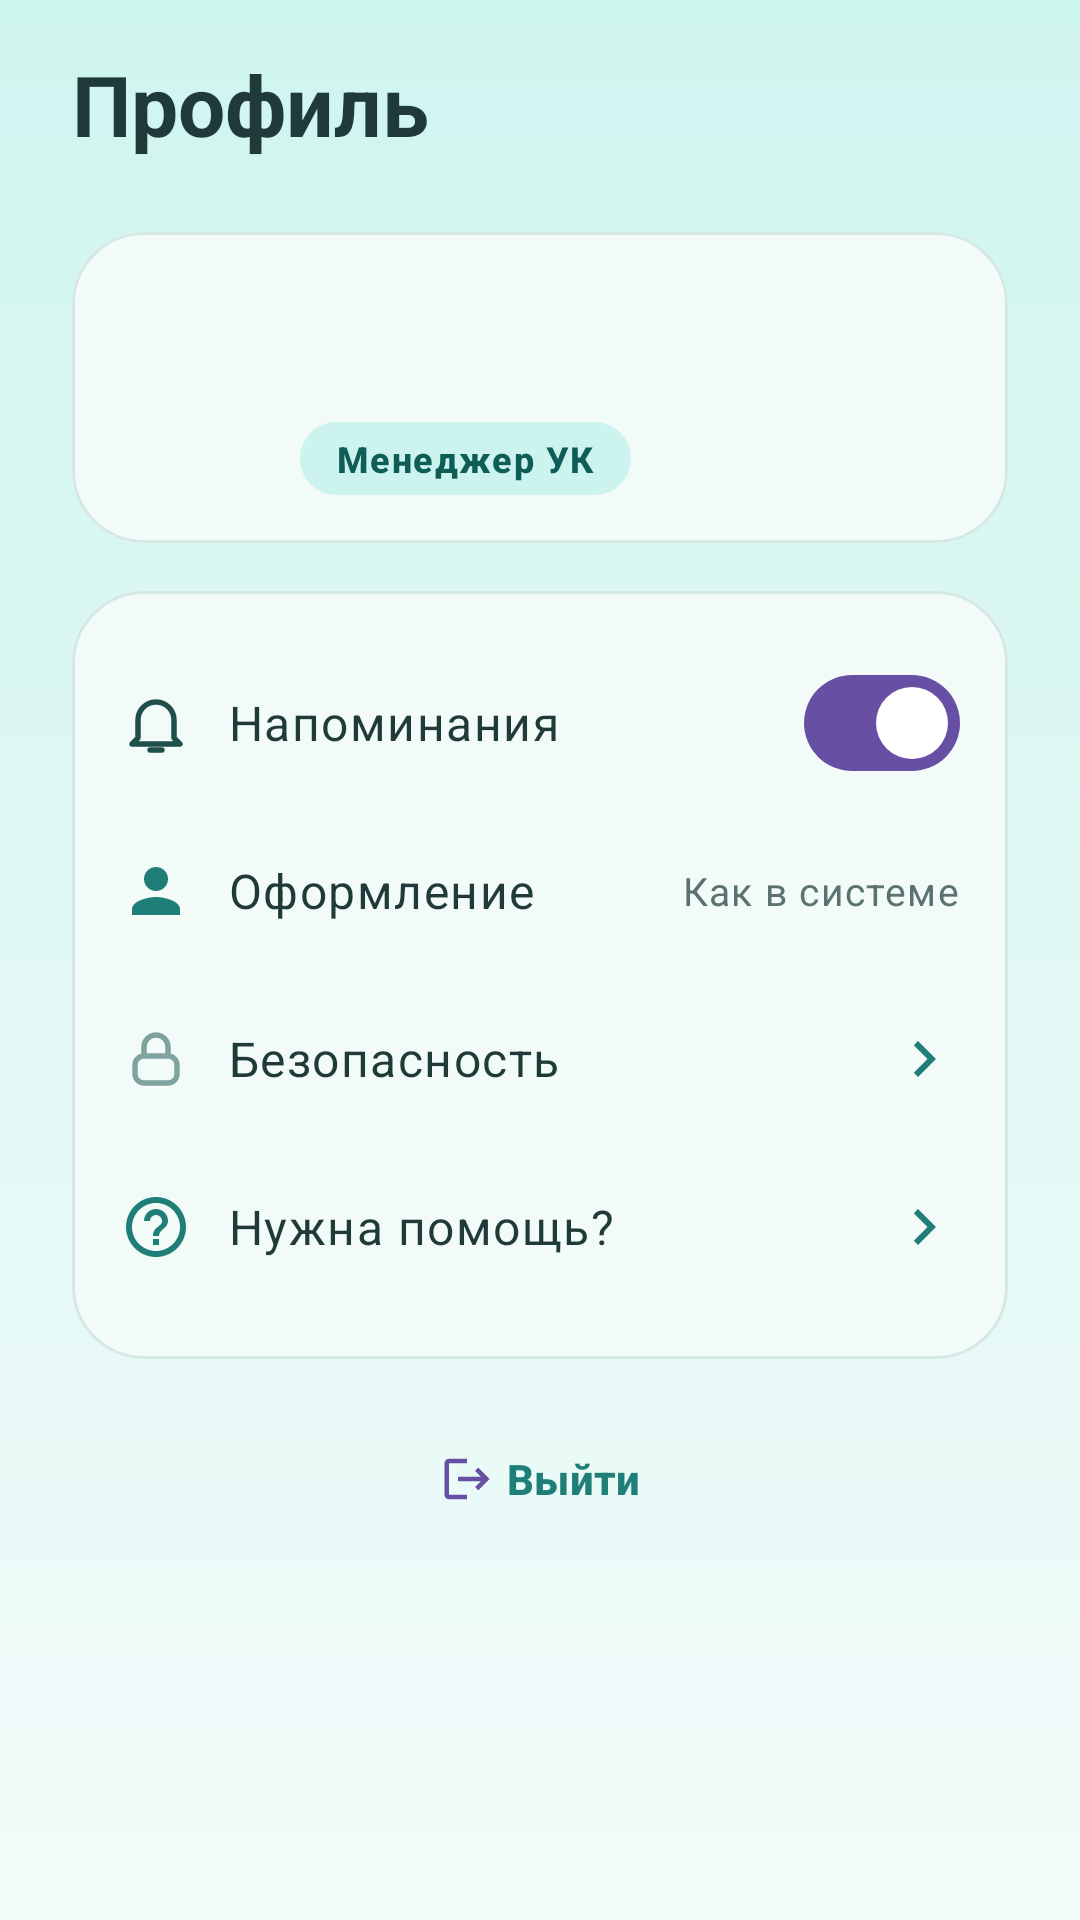

Icon bounding boxes for this 1080px x 1920px phone screenshot, format (left=x1, top=y1, right=x2, bottom=y2):
bell: (left=129, top=699, right=183, bottom=753)
chevron right: (left=914, top=1041, right=936, bottom=1077), (left=914, top=1209, right=936, bottom=1245)
help: (left=126, top=1197, right=186, bottom=1257)
lock: (left=132, top=1032, right=180, bottom=1086)
profile: (left=132, top=867, right=180, bottom=915)
